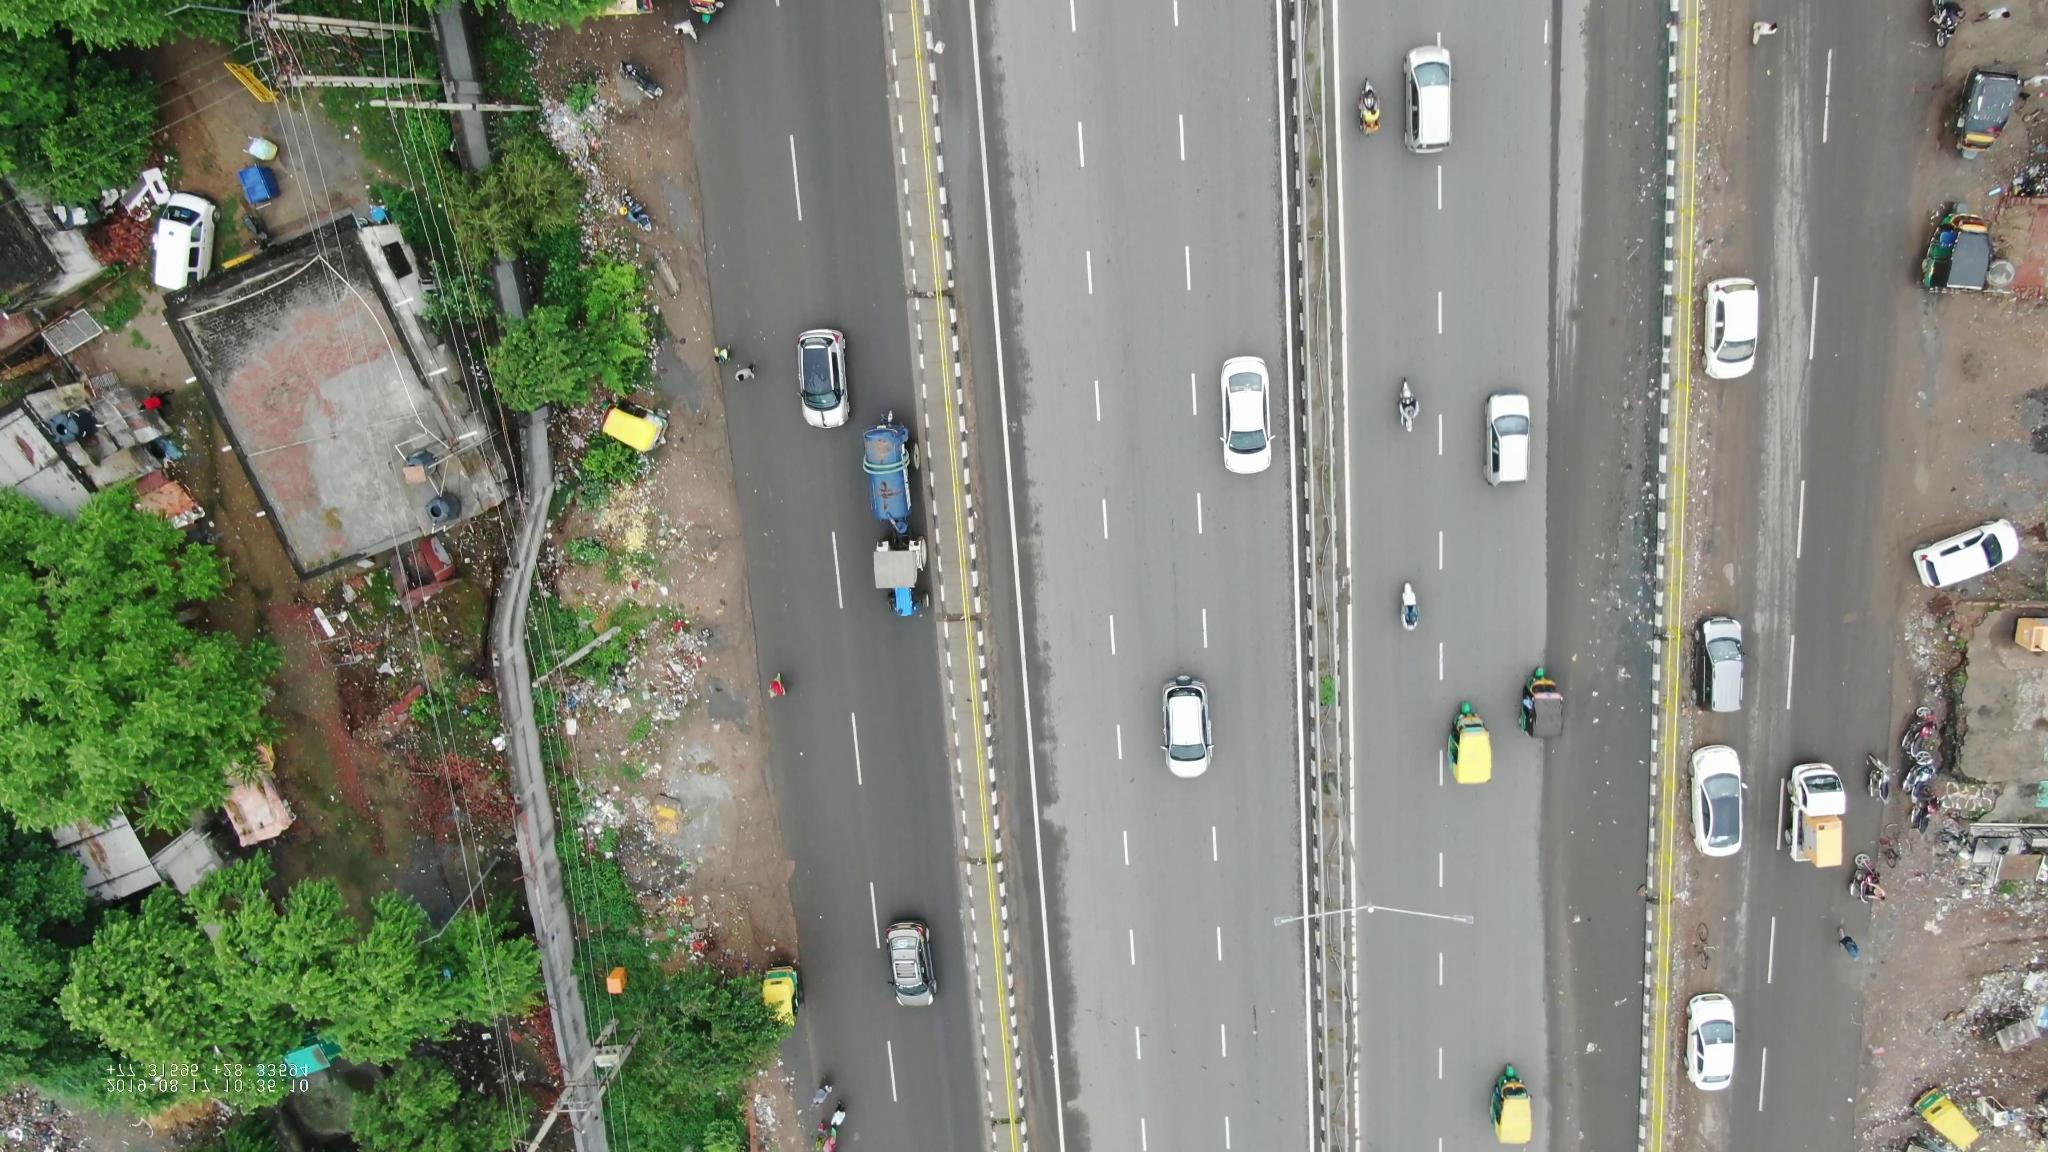Muddy_road: (1687, 380, 1753, 610), (1698, 7, 1755, 203)
Waterlogging: (1580, 661, 1656, 1025), (1581, 378, 1661, 641)
